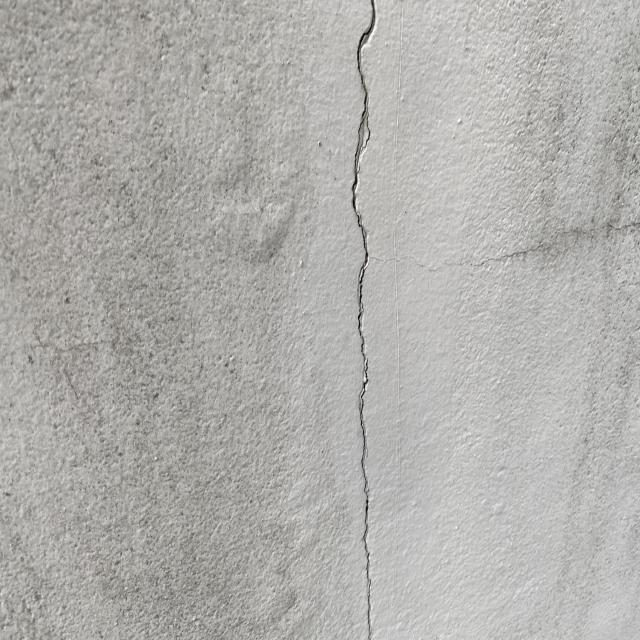SurfaceCrack: (309, 0, 418, 640), (401, 189, 639, 305)
